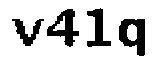1: (82, 6, 113, 52)
4: (47, 8, 82, 52)
q: (115, 15, 150, 60)
v: (8, 15, 44, 53)
